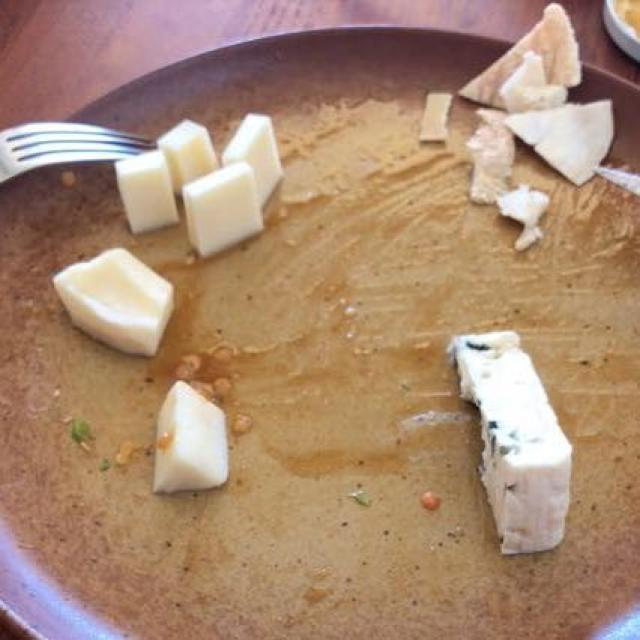cheese: (55, 114, 271, 494)
